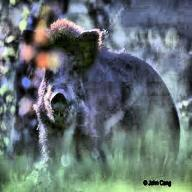boar: (19, 6, 192, 192)
